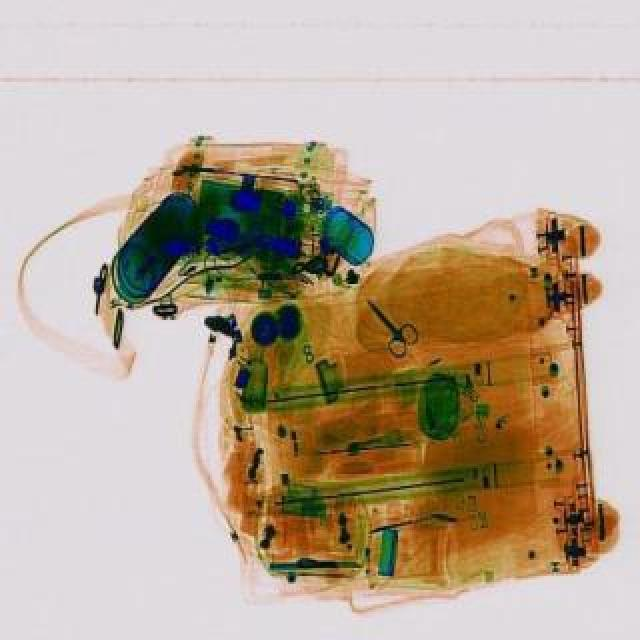pliers: (350, 288, 426, 358)
